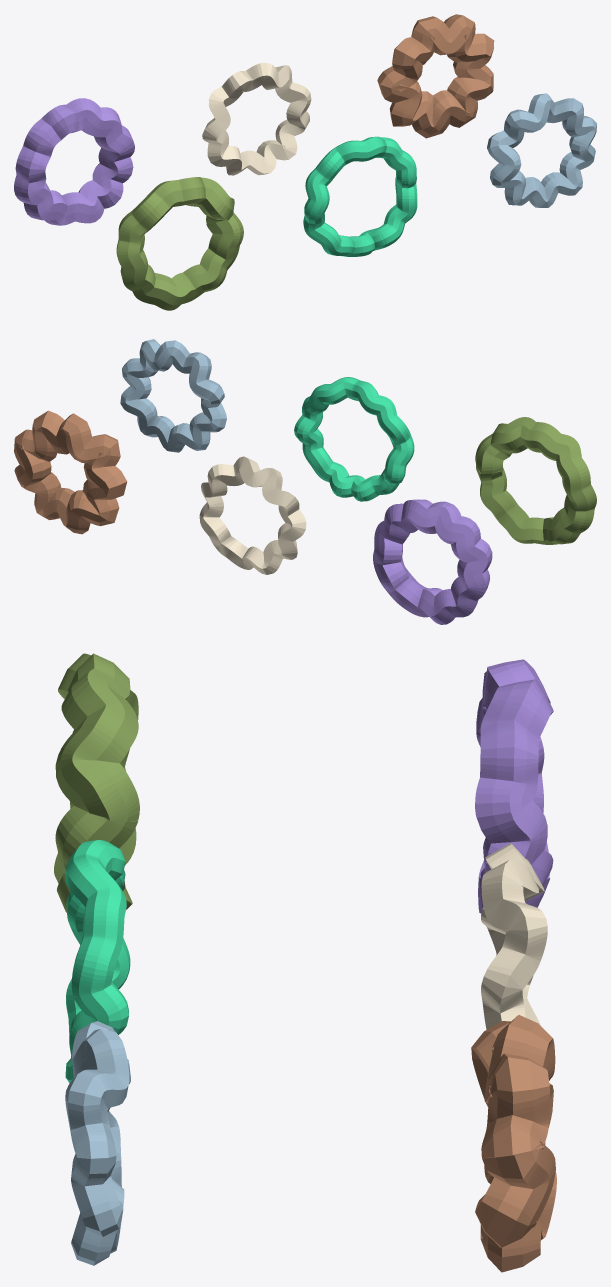
File: 0_ClosedSplineTest_2023-06-04-15-32-24.gltf
3 renders of one model, top to bottom at view 1: azimuth 30°, elevation 25°; view 2: azimuth 150°, elevation 25°; view 3: azimuth 270°, elevation 25°, orthographic. The views are drawn at different scales.
Size of the model in its own units: 528 by 132 by 241.
